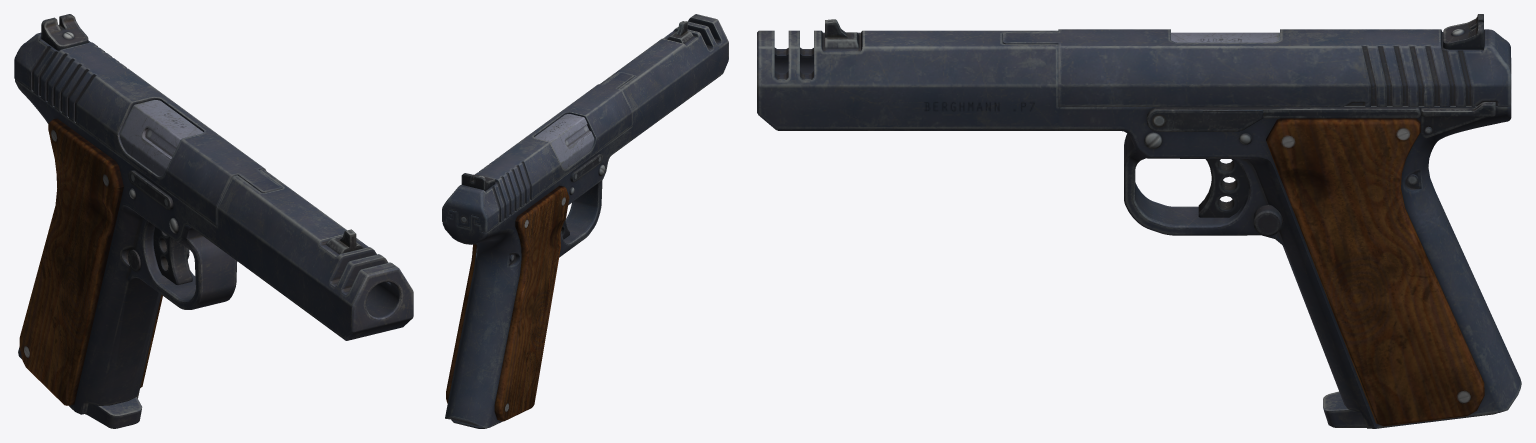
File: pistol.fbx
The picture shows the model from 3 angles, left to right: view 1: azimuth 30°, elevation 25°; view 2: azimuth 150°, elevation 25°; view 3: azimuth 270°, elevation 25°; orthographic projection. The views are drawn at different scales.
Parts seen in each view (by area): view 1: base, slide, trigger, clip; view 2: base, slide; view 3: base, slide, trigger, clip.
Boxes of the visible parts, box(x1,y1,x2,y2) form: base: box(15, 79, 413, 414); slide: box(14, 14, 282, 226); trigger: box(153, 226, 192, 284); clip: box(85, 397, 142, 428); base: box(442, 14, 728, 428); slide: box(442, 72, 634, 232); base: box(757, 19, 1521, 428); slide: box(1003, 14, 1510, 106); trigger: box(1198, 159, 1248, 217); clip: box(1323, 391, 1496, 427).
Size of the model in its own units: 4.96 by 21.89 by 37.92.
